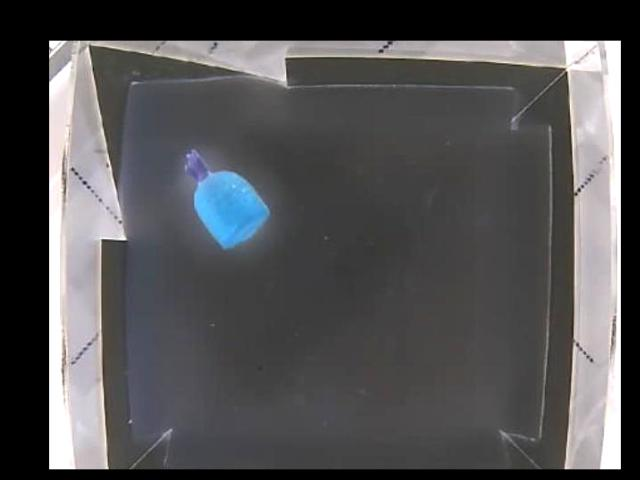Carrot: (184, 146, 268, 248)
